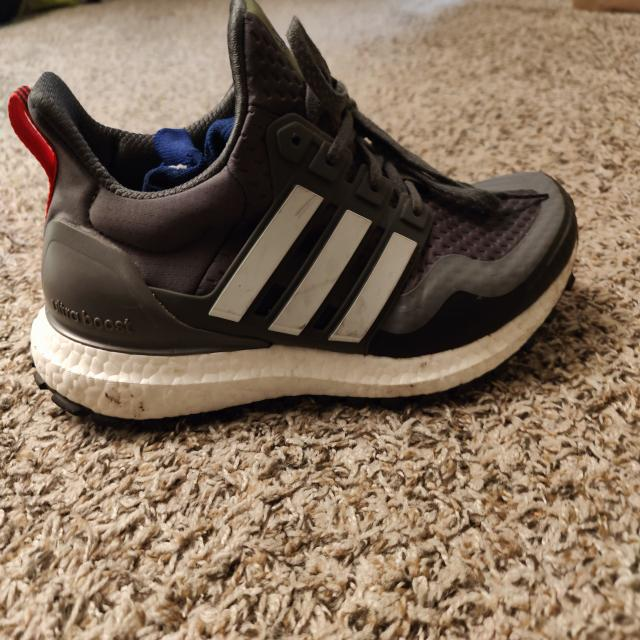black shoes: (15, 0, 575, 414)
